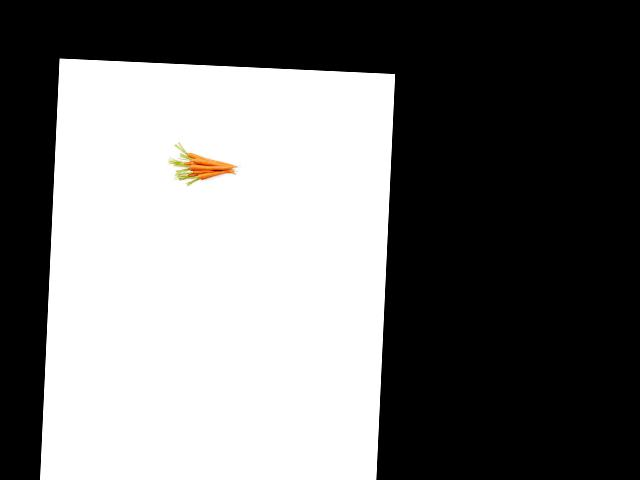carrot: (195, 165, 233, 184)
